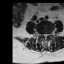CCS_normal: (44, 32, 46, 41)
LFS_stenosis: (48, 31, 50, 37)
LLS_normal: (46, 31, 48, 39)
RFS_stenosis: (40, 31, 42, 37)
RLS_stenosis: (42, 32, 44, 39)
